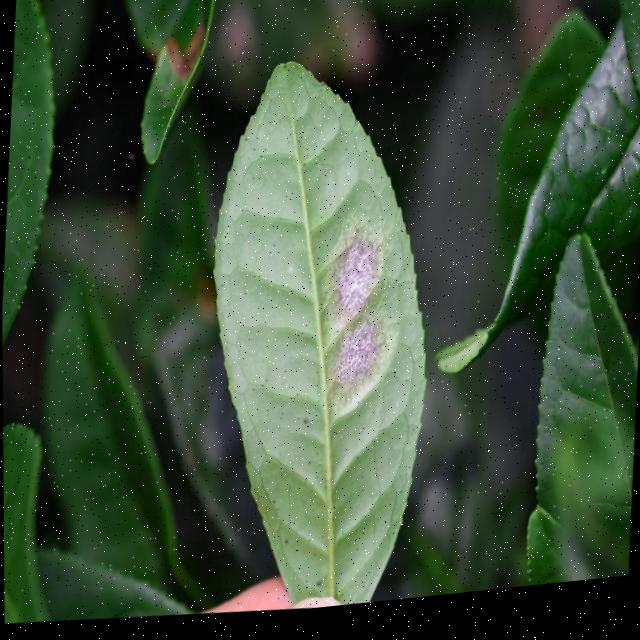Tea exobasidium blight: (329, 226, 400, 340), (335, 308, 397, 420)
